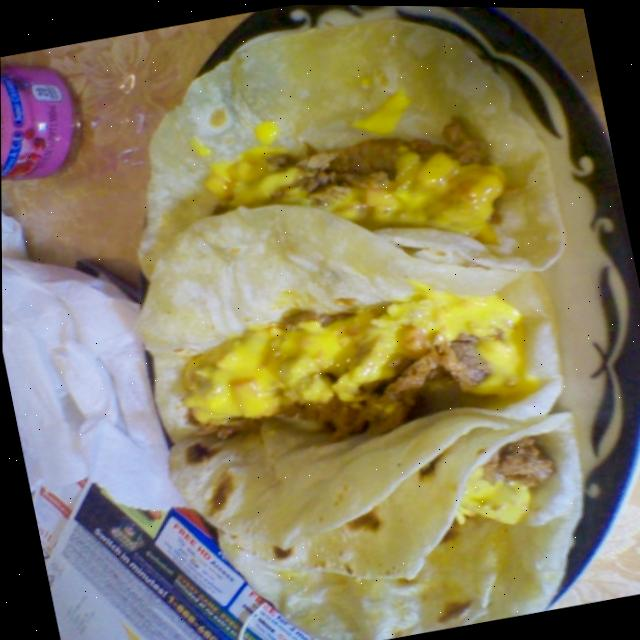面包点心: (69, 1, 635, 640)
